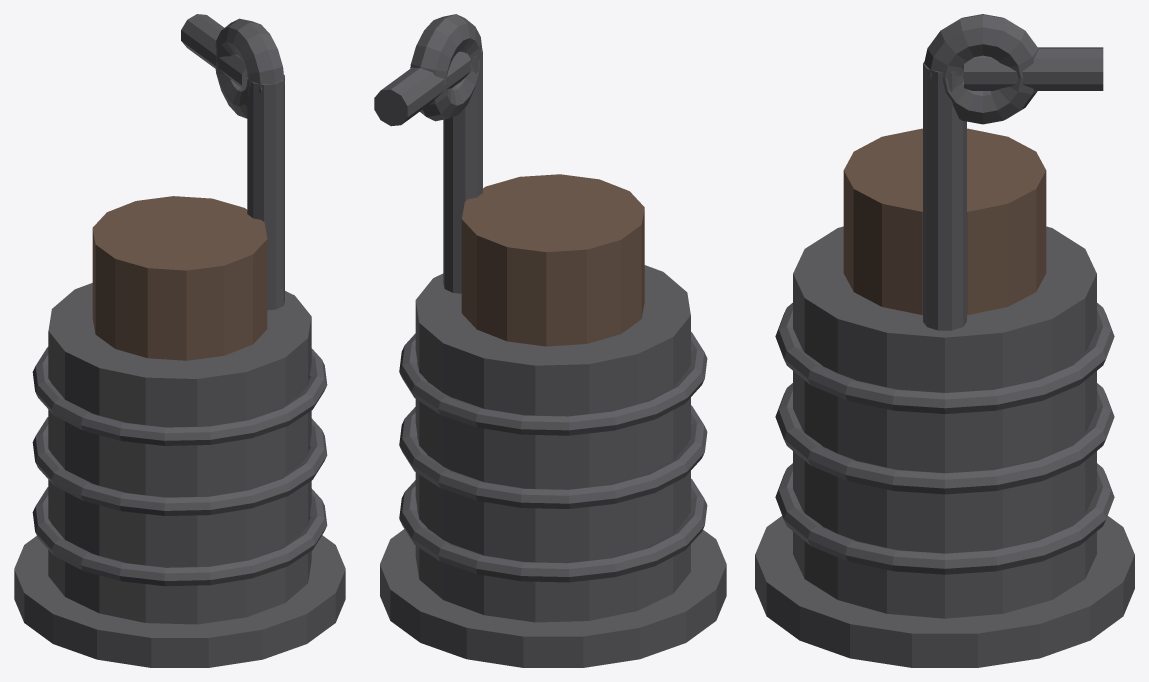
3 renders of one model, left to right at view 1: azimuth 30°, elevation 25°; view 2: azimuth 150°, elevation 25°; view 3: azimuth 270°, elevation 25°, orthographic. The views are drawn at different scales.
Visible parts, largest first — view 1: sumpPump; view 2: sumpPump; view 3: sumpPump.
Part boxes in pixels (x1,y1,x2,y2): sumpPump: [14, 14, 345, 667]; sumpPump: [374, 14, 726, 667]; sumpPump: [755, 14, 1134, 667].
Bounding box in the file's own units: 0.5909 × 1.09 × 0.6.
